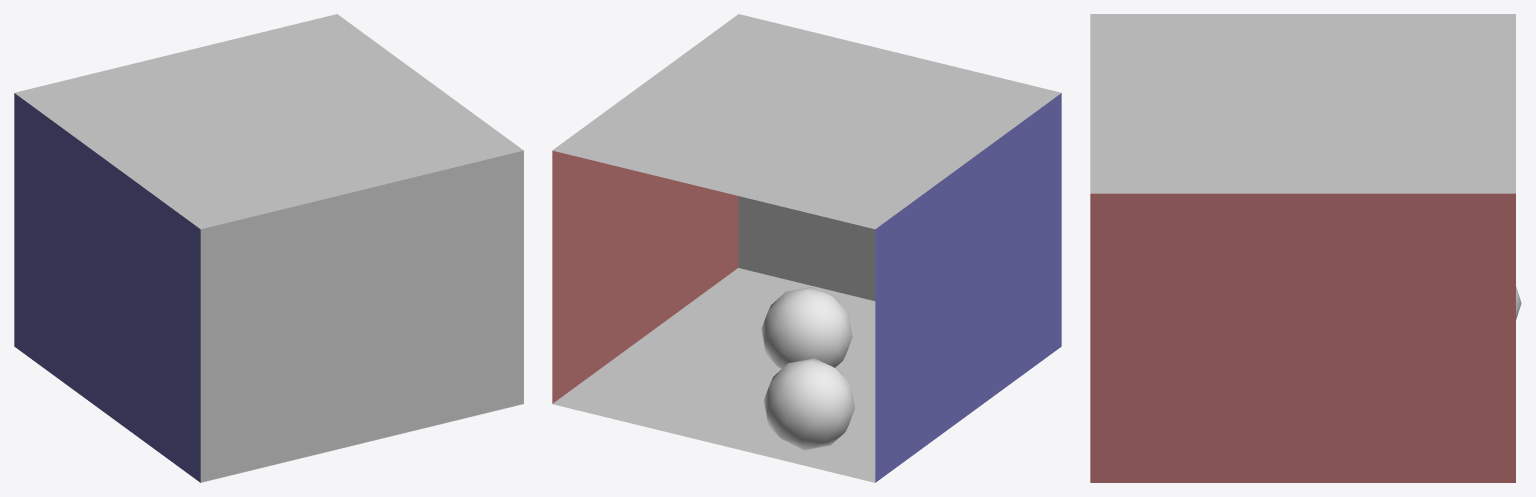
File: spot.dae
3 views of the same model, side by side, from view 1: azimuth 30°, elevation 25°; view 2: azimuth 150°, elevation 25°; view 3: azimuth 270°, elevation 25° (orthographic). The views are drawn at different scales.
Visible parts, largest first — view 1: backWall, ceiling, rightWall; view 2: ceiling, rightWall, leftWall, floor, backWall, Icosphere.001, Icosphere; view 3: leftWall, ceiling.
Boxes of the visible parts, bbox=[...] form: backWall: bbox=[200, 151, 523, 482]; ceiling: bbox=[14, 14, 523, 229]; rightWall: bbox=[14, 93, 200, 482]; ceiling: bbox=[552, 14, 1061, 229]; rightWall: bbox=[875, 93, 1061, 482]; leftWall: bbox=[552, 150, 738, 403]; floor: bbox=[552, 268, 875, 482]; backWall: bbox=[738, 196, 875, 300]; Icosphere.001: bbox=[763, 358, 854, 450]; Icosphere: bbox=[761, 287, 852, 368]; leftWall: bbox=[1090, 193, 1515, 482]; ceiling: bbox=[1090, 14, 1515, 193].
Bounding box in the file's own units: 2 × 2.03 × 1.5.
